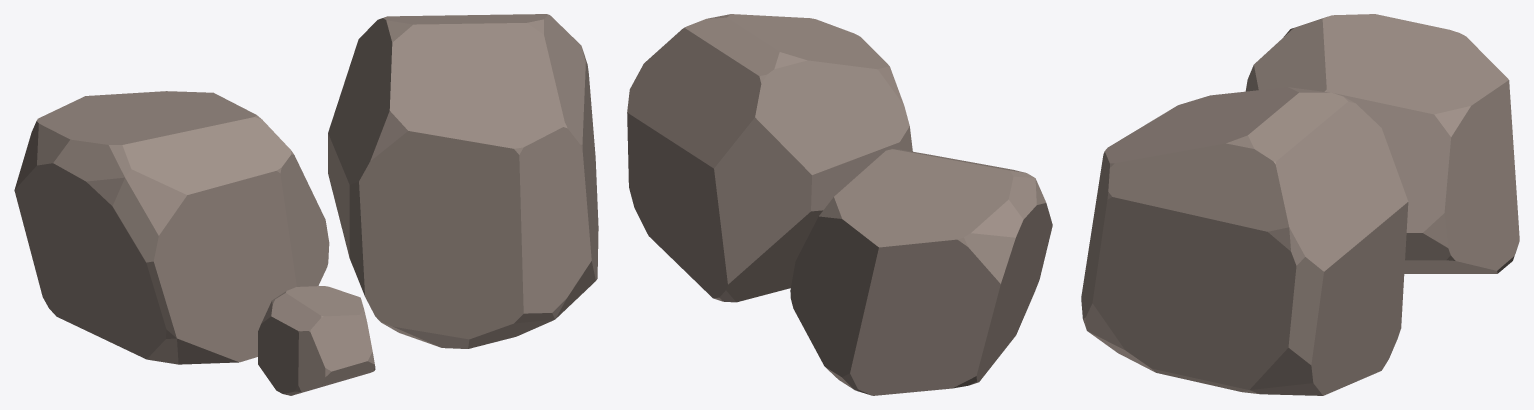
File: Камни (2).fbx
The picture shows the model from 3 angles, left to right: view 1: azimuth 30°, elevation 25°; view 2: azimuth 150°, elevation 25°; view 3: azimuth 270°, elevation 25°; orthographic projection. The views are drawn at different scales.
Visible parts, largest first — view 1: Icosphere.002; view 2: Icosphere.002; view 3: Icosphere.002.
Part boxes in pixels (left/top/right/bottom): Icosphere.002: left=14, top=14, right=598, bottom=395; Icosphere.002: left=627, top=14, right=1052, bottom=395; Icosphere.002: left=1081, top=14, right=1519, bottom=395.
Bounding box in the file's own units: 339 × 173 × 259.
